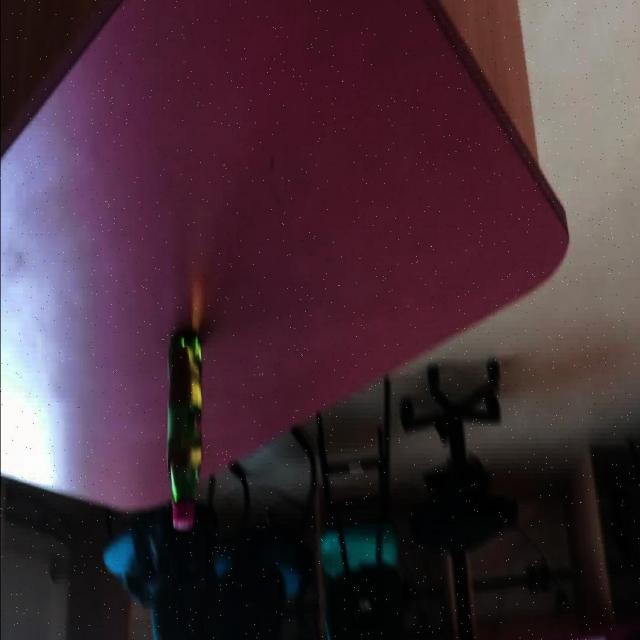Guarana: (166, 328, 204, 532)
